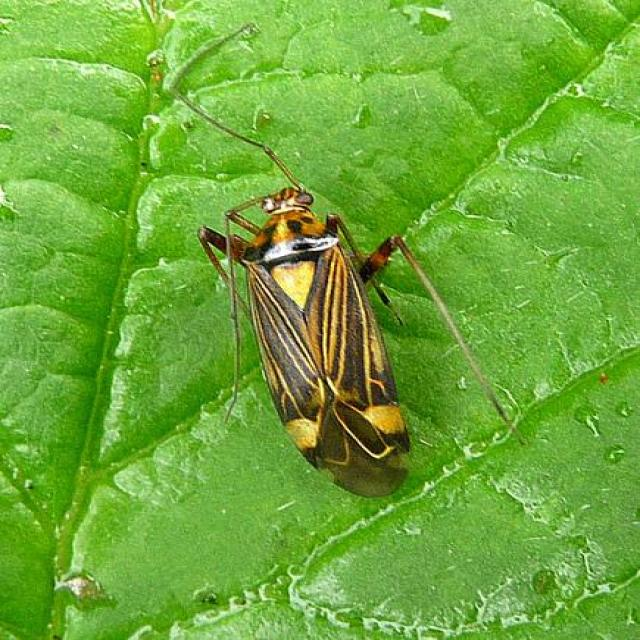Miridae-Adult-: (142, 63, 515, 503)
